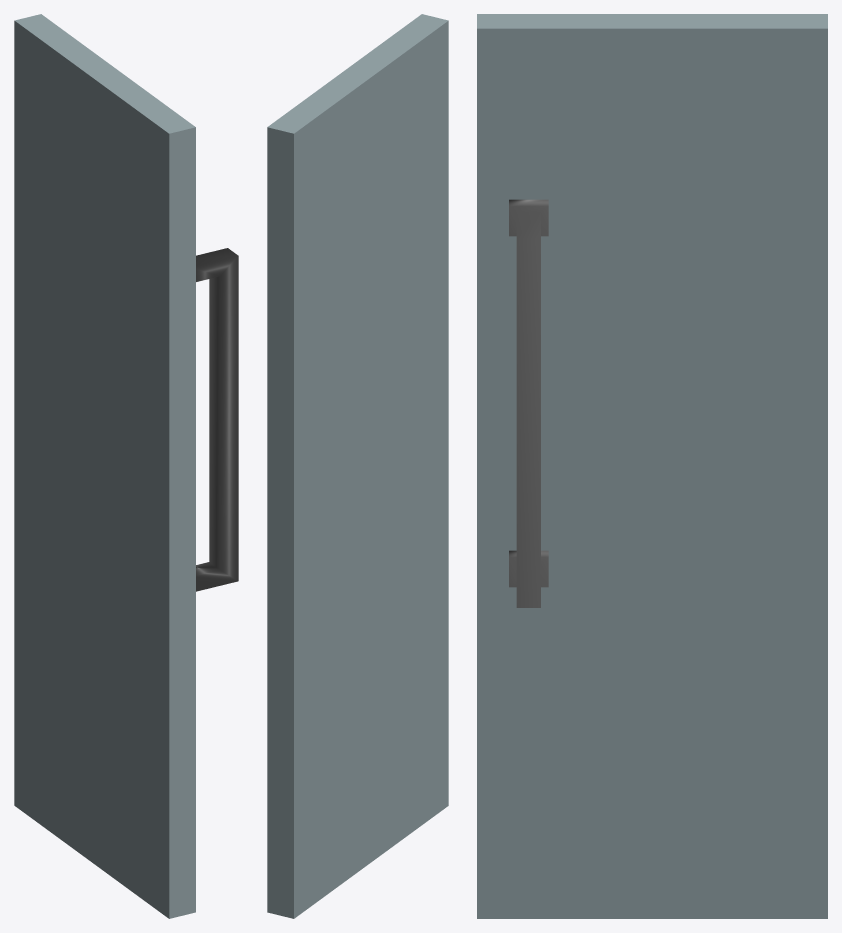
The model's file is cabinet_Door.ver2.fbx.
3 views of the same model, side by side, from view 1: azimuth 30°, elevation 25°; view 2: azimuth 150°, elevation 25°; view 3: azimuth 270°, elevation 25° (orthographic). The views are drawn at different scales.
Parts seen in each view (by area): view 1: Cube.006; view 2: Cube.006; view 3: Cube.006.
Part boxes in pixels (x1=…): Cube.006: x1=14, y1=14, x2=238, y2=918; Cube.006: x1=267, y1=14, x2=448, y2=918; Cube.006: x1=477, y1=14, x2=827, y2=918.
Bounding box in the file's own units: 64.82 × 560 × 200.
